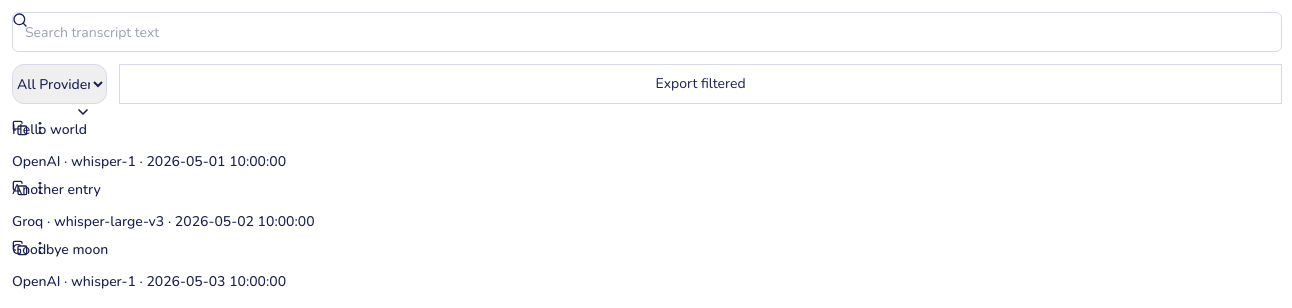
Test: <History /> › clears the search term from the inline search action
In the field labelled "Search transcript text": (647,32) top-left (12, 12), bottom-right (1282, 52), type "Goodbye"
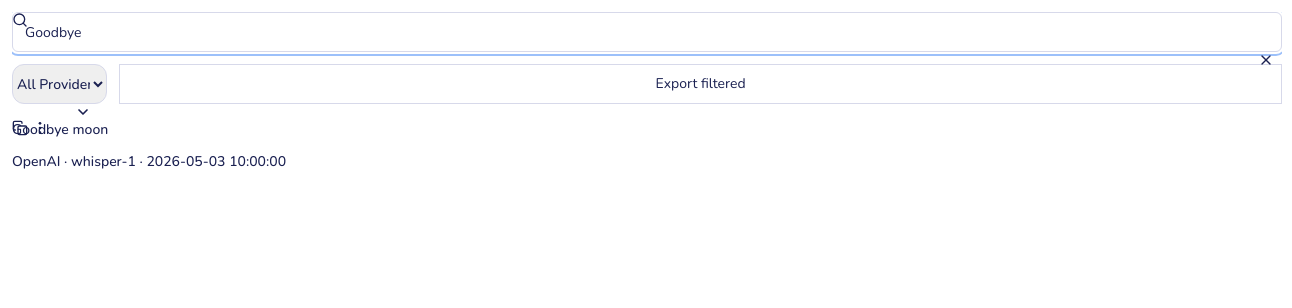
Result: the number of list items with test id "history-row" is 1 at top-left (12, 120), bottom-right (286, 171)
Click the button named "clear search": (1266,60) top-left (1258, 52), bottom-right (1274, 68)
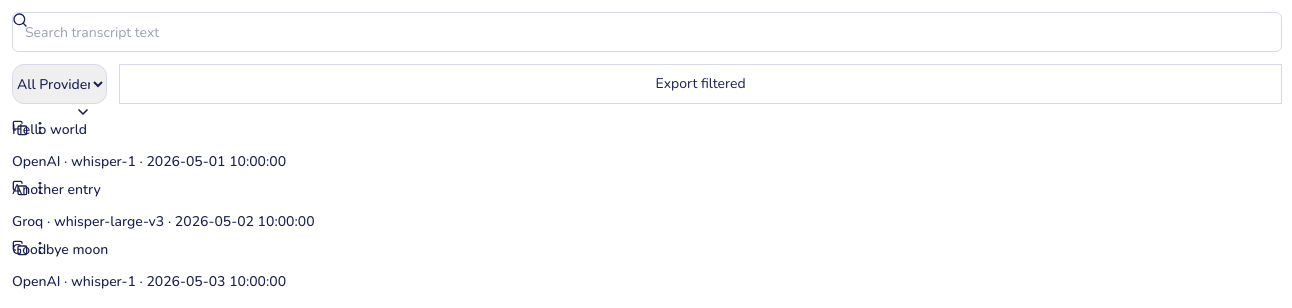
Result: the field labelled "Search transcript text" is empty at top-left (12, 12), bottom-right (1282, 52)
Result: the number of list items with test id "history-row" is 3 at top-left (12, 120), bottom-right (286, 171); top-left (12, 180), bottom-right (314, 231); top-left (12, 240), bottom-right (286, 291)
